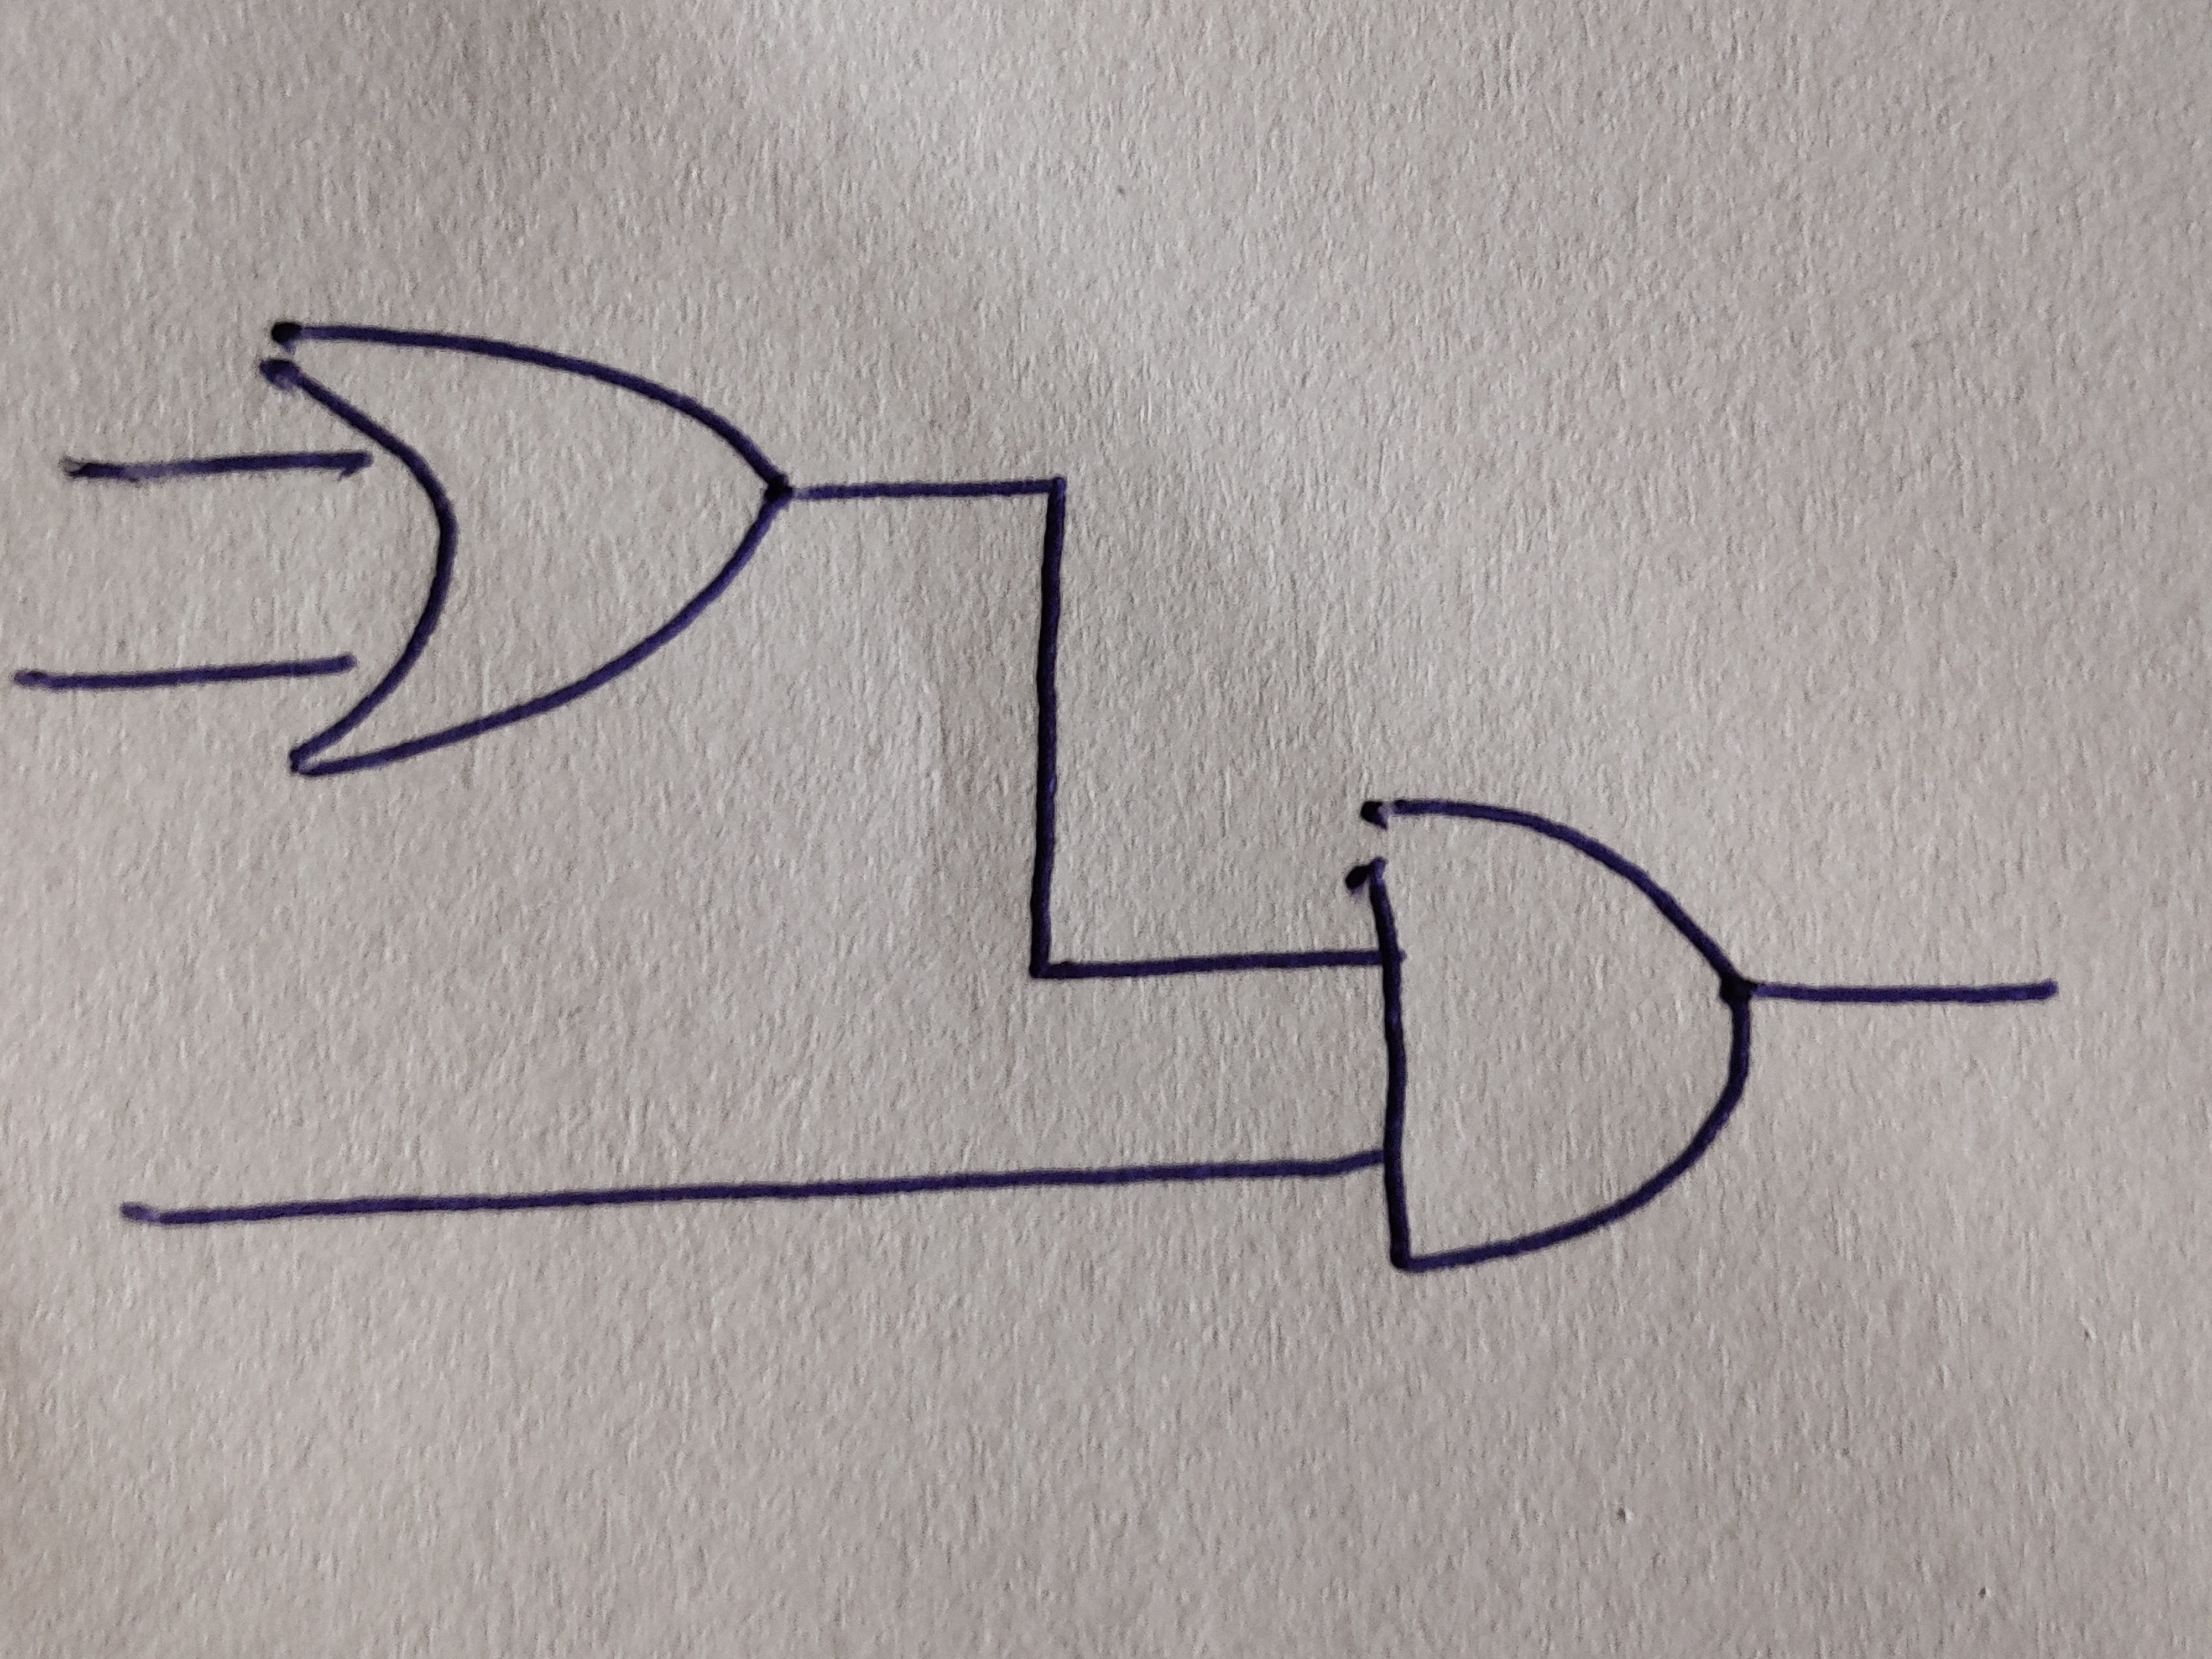and: (1362, 798, 1752, 1272)
or: (260, 322, 787, 779)
